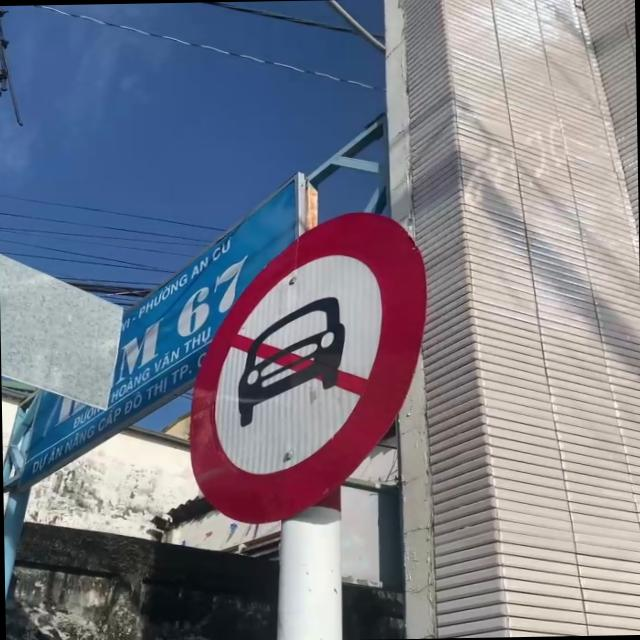Cam_O_To: (186, 210, 426, 520)
